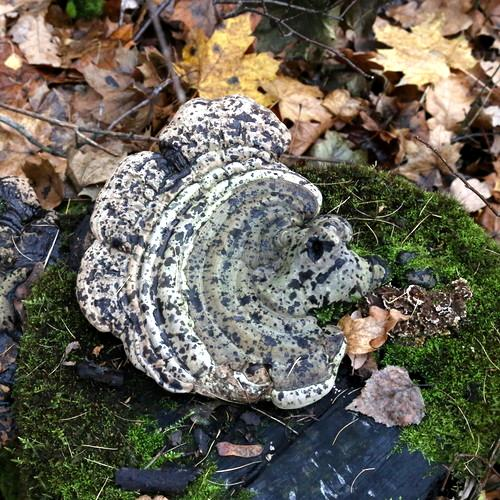Ganoderma - Fruit Body: (88, 95, 355, 409)
